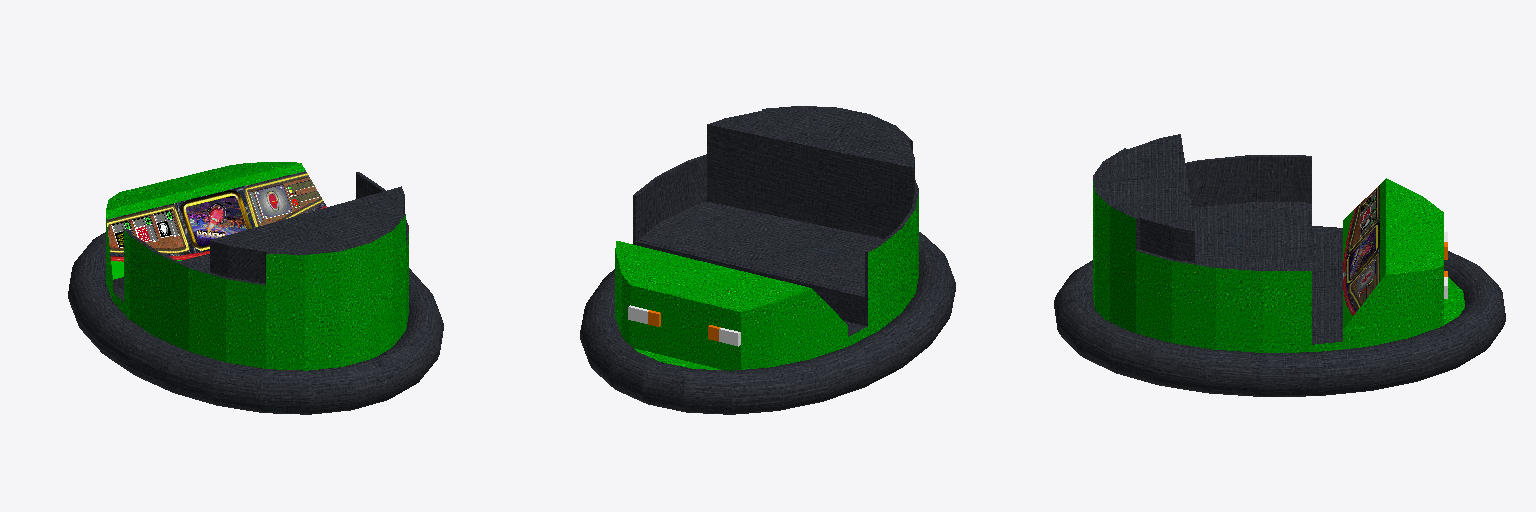
3 views of the same model, side by side, from view 1: azimuth 30°, elevation 25°; view 2: azimuth 150°, elevation 25°; view 3: azimuth 270°, elevation 25° (orthographic).
Visible parts, largest first — view 1: koura_green-SKP--_Formica_Blue_, koura_green-SKP--_Formica_Laminate_Dark_, koura_green-SKP--_Carpet_Berber_Pattern_Gray_; view 2: koura_green-SKP--_Formica_Laminate_Dark_, koura_green-SKP--_Formica_Blue_, koura_green-SKP--_Color_000_; view 3: koura_green-SKP--_Formica_Laminate_Dark_, koura_green-SKP--_Formica_Blue_, koura_green-SKP--_Carpet_Berber_Pattern_Gray_.
Boxes of the visible parts, box(x1,y1,x2,y2) form: koura_green-SKP--_Formica_Blue_: box(106, 162, 408, 370); koura_green-SKP--_Formica_Laminate_Dark_: box(68, 172, 443, 414); koura_green-SKP--_Carpet_Berber_Pattern_Gray_: box(107, 171, 326, 279); koura_green-SKP--_Formica_Laminate_Dark_: box(580, 106, 955, 414); koura_green-SKP--_Formica_Blue_: box(615, 194, 918, 370); koura_green-SKP--_Color_000_: box(628, 305, 740, 346); koura_green-SKP--_Formica_Laminate_Dark_: box(1054, 134, 1505, 396); koura_green-SKP--_Formica_Blue_: box(1093, 178, 1464, 352); koura_green-SKP--_Carpet_Berber_Pattern_Gray_: box(1343, 185, 1379, 328).
Bounding box in the file's own units: 85.35 × 41.06 × 112.
6 materials, 4 textured.